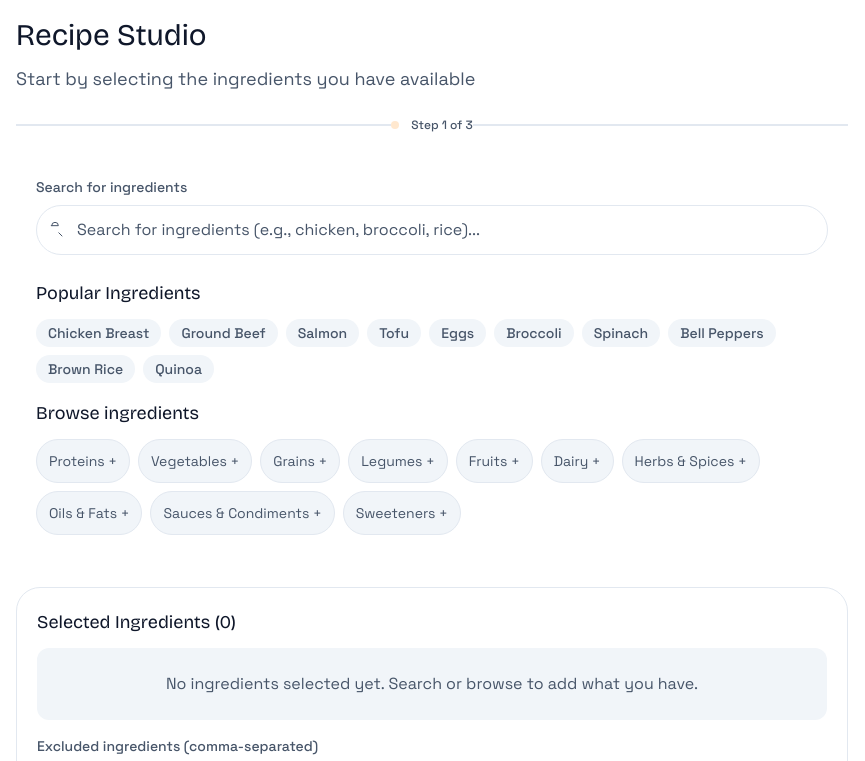
Scenario: unreachable backend displays a connection error and never submits generation
Type "Lentil" into the search field labelled "Search for ingredients" at (432, 230), box left=36, top=205, right=828, bottom=255
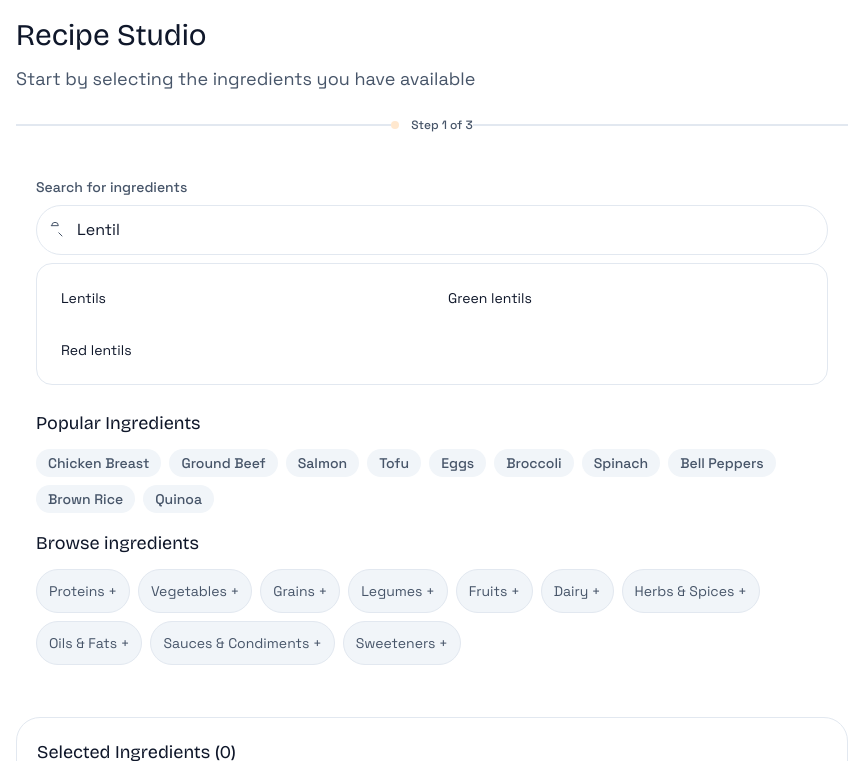
Click the button "Lentils" at (83, 298), box left=49, top=276, right=428, bottom=320
(page scrolled)
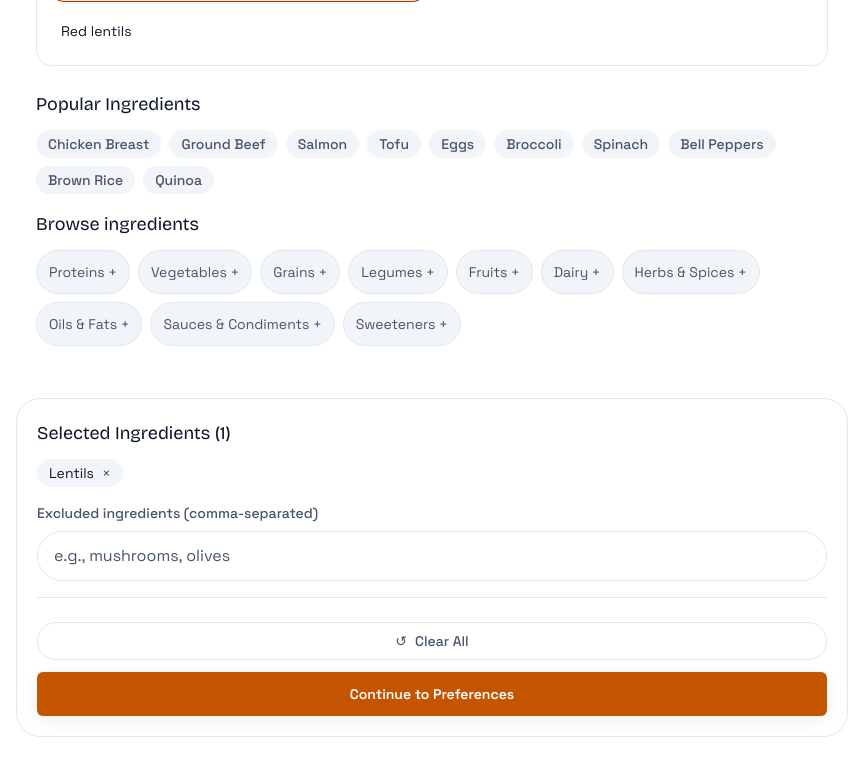
Click the button "Continue to Preferences" at (432, 694), box left=37, top=672, right=827, bottom=716
(page scrolled)
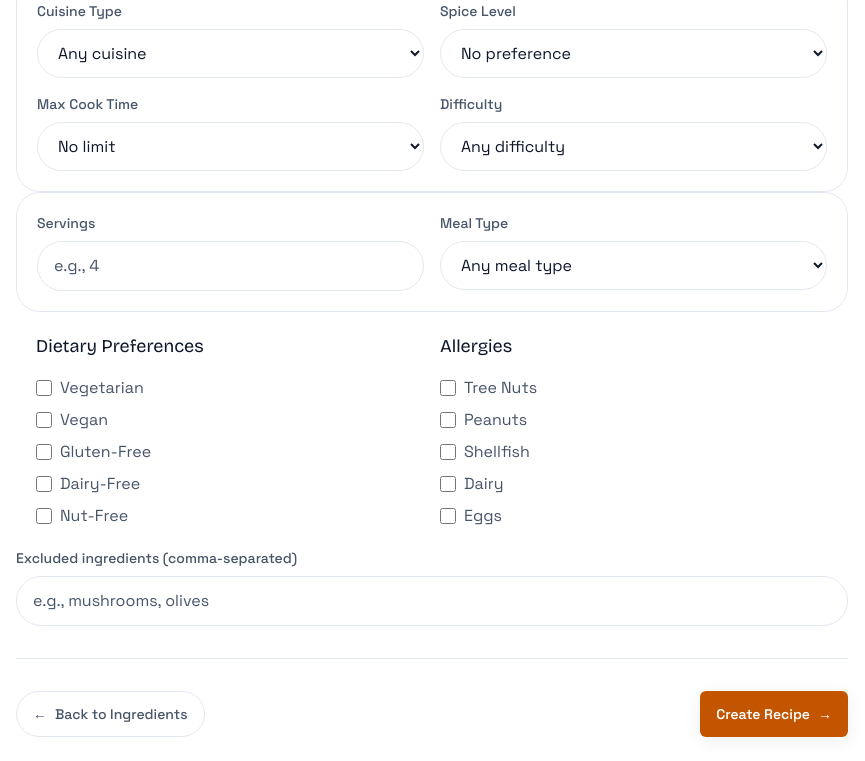
Click the button "Create Recipe →" at (774, 714), box left=700, top=691, right=848, bottom=737
(page scrolled)
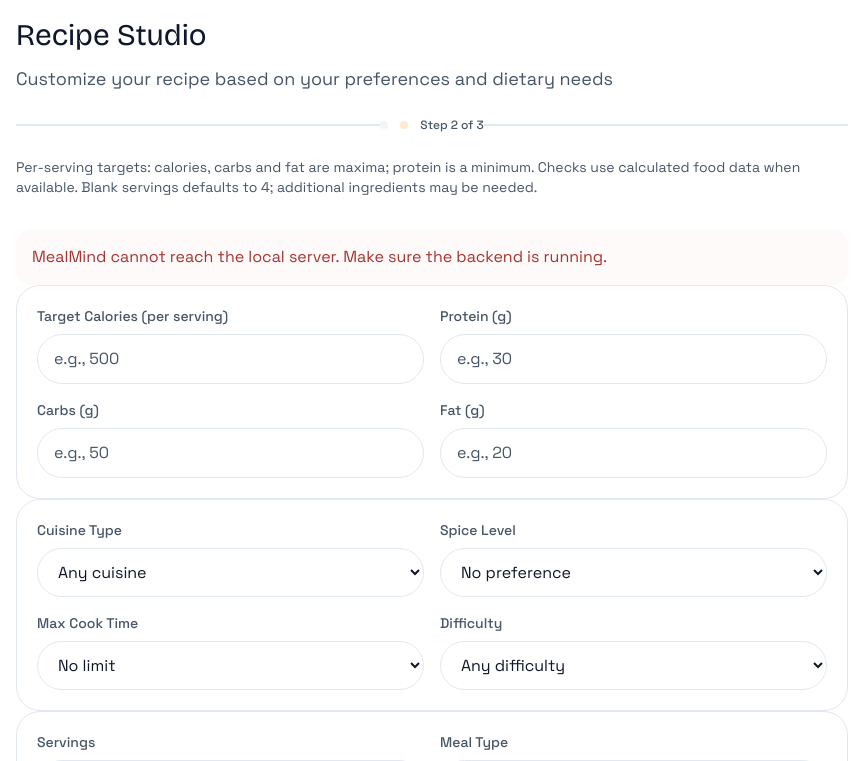
Expected: the message shows "cannot reach the local server", left=32, top=246, right=607, bottom=267
